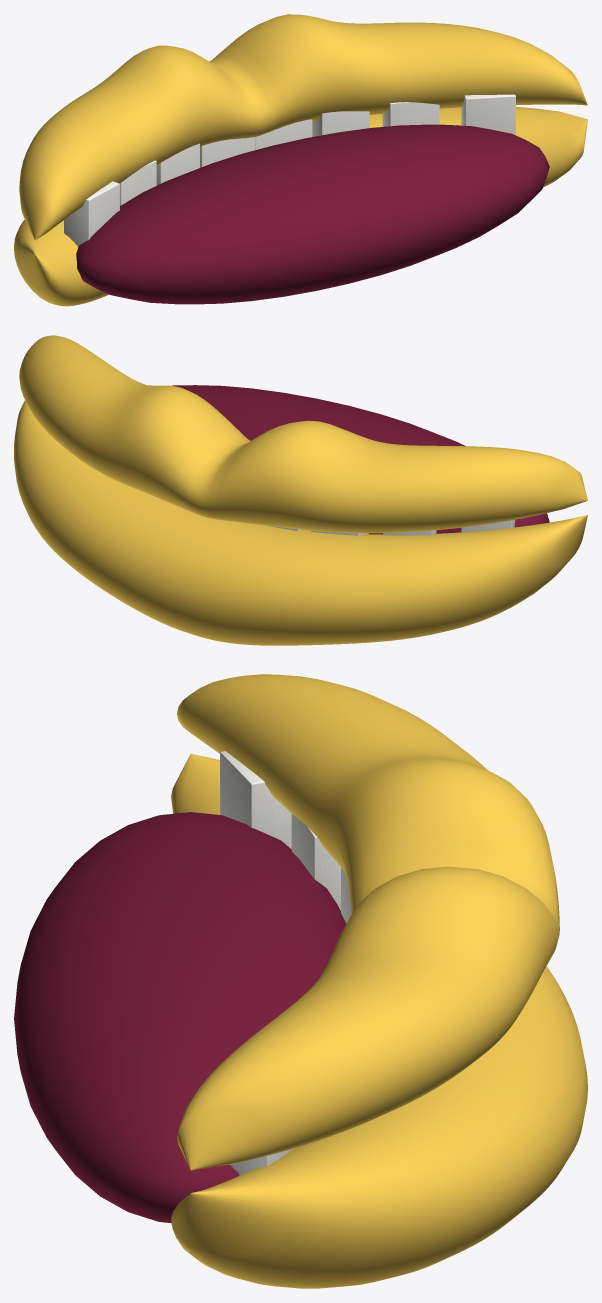
The model's file is loud_mouth.glb.
The picture shows the model from 3 angles, top to bottom: view 1: azimuth 30°, elevation 25°; view 2: azimuth 150°, elevation 25°; view 3: azimuth 270°, elevation 25°; orthographic projection. The views are drawn at different scales.
Visible parts, largest first — view 1: Cavity, UpperLip, LowerLip, LowerTooth_0, LowerTooth_7, LowerTooth_6, LowerTooth_5, UpperTooth_0, LowerTooth_2, LowerTooth_3, LowerTooth_4, LowerTooth_1 (+2 smaller); view 2: LowerLip, UpperLip, Cavity; view 3: UpperLip, Cavity, LowerLip, LowerTooth_0, LowerTooth_1, UpperTooth_0, UpperTooth_1.
Part boxes in pixels (x1,y1,x2,y2): Cavity: [76, 124, 549, 304]; UpperLip: [19, 14, 587, 239]; LowerLip: [14, 107, 587, 306]; LowerTooth_0: [64, 181, 119, 246]; LowerTooth_7: [461, 94, 515, 135]; LowerTooth_6: [382, 102, 439, 126]; LowerTooth_5: [312, 111, 369, 136]; UpperTooth_0: [64, 197, 119, 245]; LowerTooth_2: [156, 143, 199, 185]; LowerTooth_3: [200, 137, 255, 167]; LowerTooth_4: [255, 119, 312, 149]; LowerTooth_1: [120, 160, 156, 205]; LowerLip: [14, 400, 587, 645]; UpperLip: [19, 335, 587, 533]; Cavity: [172, 385, 549, 534]; UpperLip: [177, 674, 559, 1170]; Cavity: [14, 812, 346, 1222]; LowerLip: [171, 753, 587, 1288]; LowerTooth_0: [220, 751, 291, 848]; LowerTooth_1: [291, 814, 340, 910]; UpperTooth_0: [220, 774, 291, 848]; UpperTooth_1: [291, 829, 340, 910].
Size of the model in its own units: 1 by 0.3761 by 0.552.
